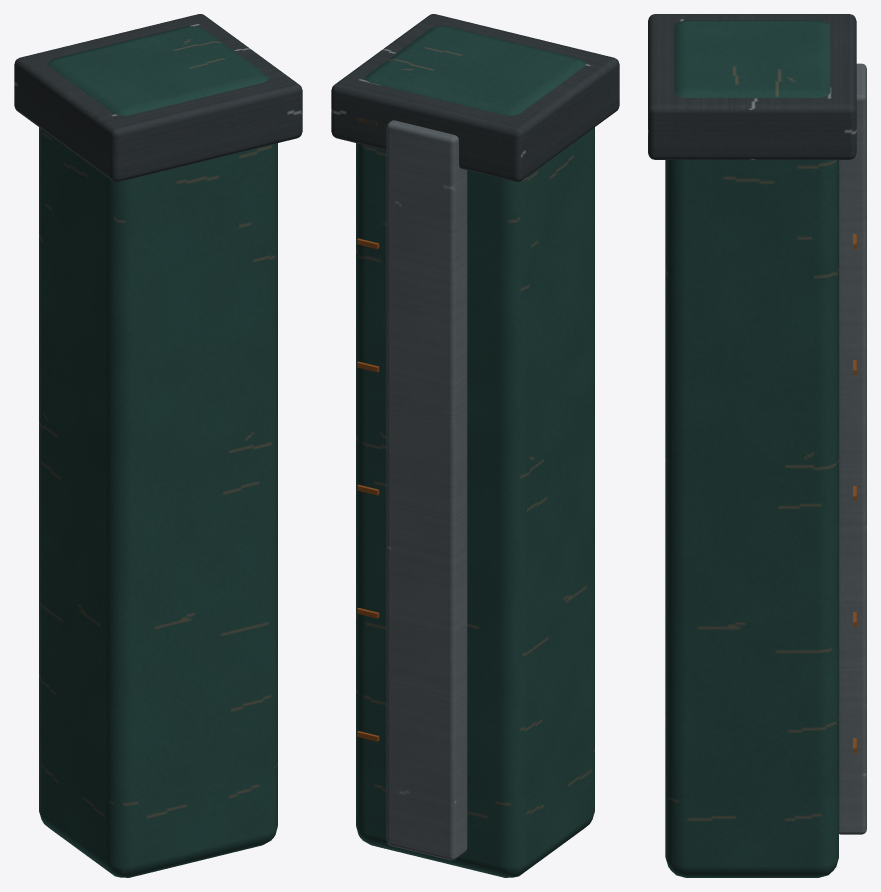
File: fabricator_mast.glb
The picture shows the model from 3 angles, left to right: view 1: azimuth 30°, elevation 25°; view 2: azimuth 150°, elevation 25°; view 3: azimuth 270°, elevation 25°; orthographic projection. The views are drawn at different scales.
Parts seen in each view (by area): view 1: Extension channel, Slide wiper; view 2: Extension channel, Polished slide, Slide wiper; view 3: Extension channel, Polished slide, Slide wiper.
Boxes of the visible parts, left/top/right/bottom form: Extension channel: left=39, top=26, right=277, bottom=877; Slide wiper: left=14, top=14, right=302, bottom=181; Extension channel: left=356, top=26, right=594, bottom=877; Polished slide: left=386, top=120, right=467, bottom=860; Slide wiper: left=331, top=14, right=619, bottom=181; Extension channel: left=665, top=20, right=838, bottom=877; Polished slide: left=839, top=63, right=866, bottom=834; Slide wiper: left=648, top=14, right=856, bottom=159.
Bounding box in the file's own units: 0.13 × 0.5 × 0.126.
4 materials, 4 textured.
